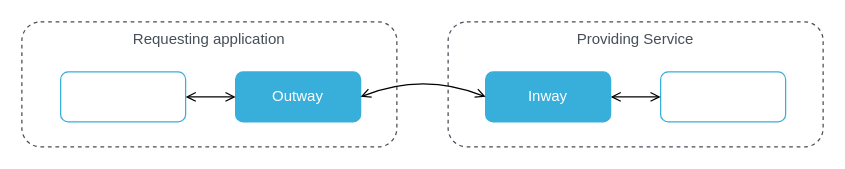
The diagram is 845 pixels wide and 169 high, and some of its shapes have lost their labels. The centre of each missing label's shape, as x and y in pixels:
API: point (722, 96)
Client: point (122, 96)
